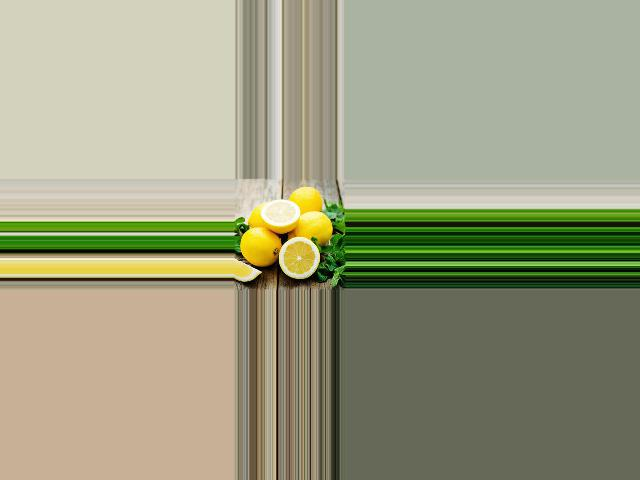lemon: (246, 202, 269, 230)
